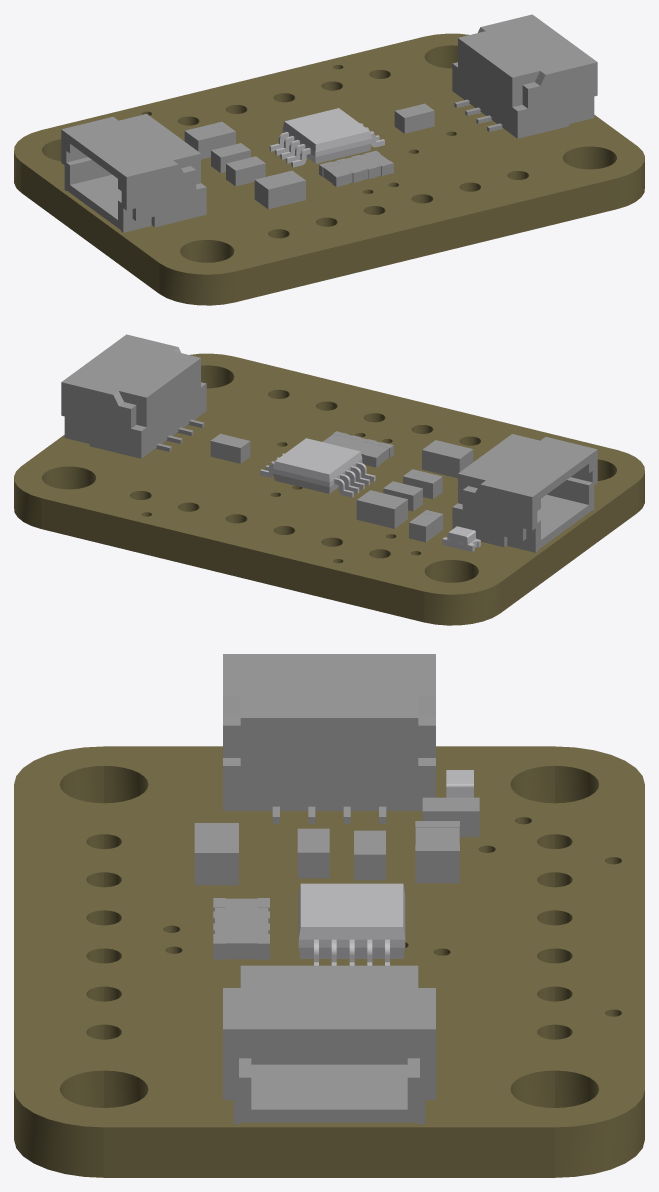
Rendered from ada-1085.glb.
3 renders of one model, top to bottom at view 1: azimuth 30°, elevation 25°; view 2: azimuth 150°, elevation 25°; view 3: azimuth 270°, elevation 25°, orthographic. The views are drawn at different scales.
Parts seen in each view (by area): view 1: 0.16666666666666666_0.16666666666666666_0.08333333333333333_, 0.3333333333333333_0.3333333333333333_0.3333333333333333_0, 0.5833333333333334_0.5833333333333334_0.5833333333333334_0.8; view 2: 0.16666666666666666_0.16666666666666666_0.08333333333333333_, 0.3333333333333333_0.3333333333333333_0.3333333333333333_0, 0.5833333333333334_0.5833333333333334_0.5833333333333334_0.8; view 3: 0.16666666666666666_0.16666666666666666_0.08333333333333333_, 0.3333333333333333_0.3333333333333333_0.3333333333333333_0, 0.5833333333333334_0.5833333333333334_0.5833333333333334_0.8.
Boxes of the visible parts, x1,y1,x2,y2 form: 0.16666666666666666_0.16666666666666666_0.08333333333333333_: [14, 33, 644, 305]; 0.3333333333333333_0.3333333333333333_0.3333333333333333_0: [61, 14, 597, 232]; 0.5833333333333334_0.5833333333333334_0.5833333333333334_0.8: [269, 108, 384, 167]; 0.16666666666666666_0.16666666666666666_0.08333333333333333_: [14, 353, 644, 625]; 0.3333333333333333_0.3333333333333333_0.3333333333333333_0: [61, 334, 597, 552]; 0.5833333333333334_0.5833333333333334_0.5833333333333334_0.8: [260, 438, 480, 551]; 0.16666666666666666_0.16666666666666666_0.08333333333333333_: [14, 746, 644, 1177]; 0.3333333333333333_0.3333333333333333_0.3333333333333333_0: [194, 654, 479, 1124]; 0.5833333333333334_0.5833333333333334_0.5833333333333334_0.8: [298, 770, 473, 965].
Size of the model in its own units: 2.54 by 0.4529 by 1.78.
